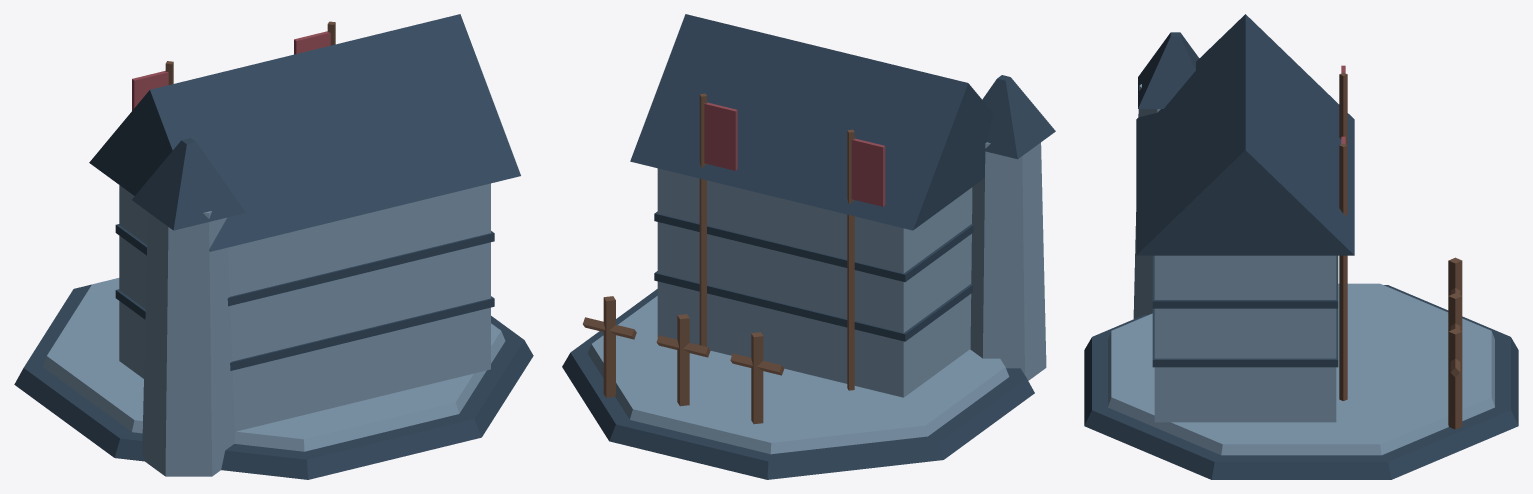
The model's file is Barracks_3.fbx.
The picture shows the model from 3 angles, left to right: view 1: azimuth 30°, elevation 25°; view 2: azimuth 150°, elevation 25°; view 3: azimuth 270°, elevation 25°; orthographic projection. The views are drawn at different scales.
Parts seen in each view (by area): view 1: Barracks_3; view 2: Barracks_3; view 3: Barracks_3.
Part boxes in pixels (left/top/right/bottom): Barracks_3: left=14, top=14, right=533, bottom=479; Barracks_3: left=562, top=14, right=1055, bottom=479; Barracks_3: left=1084, top=14, right=1518, bottom=479.
Bounding box in the file's own units: 2.7 × 2.1 × 2.7.
